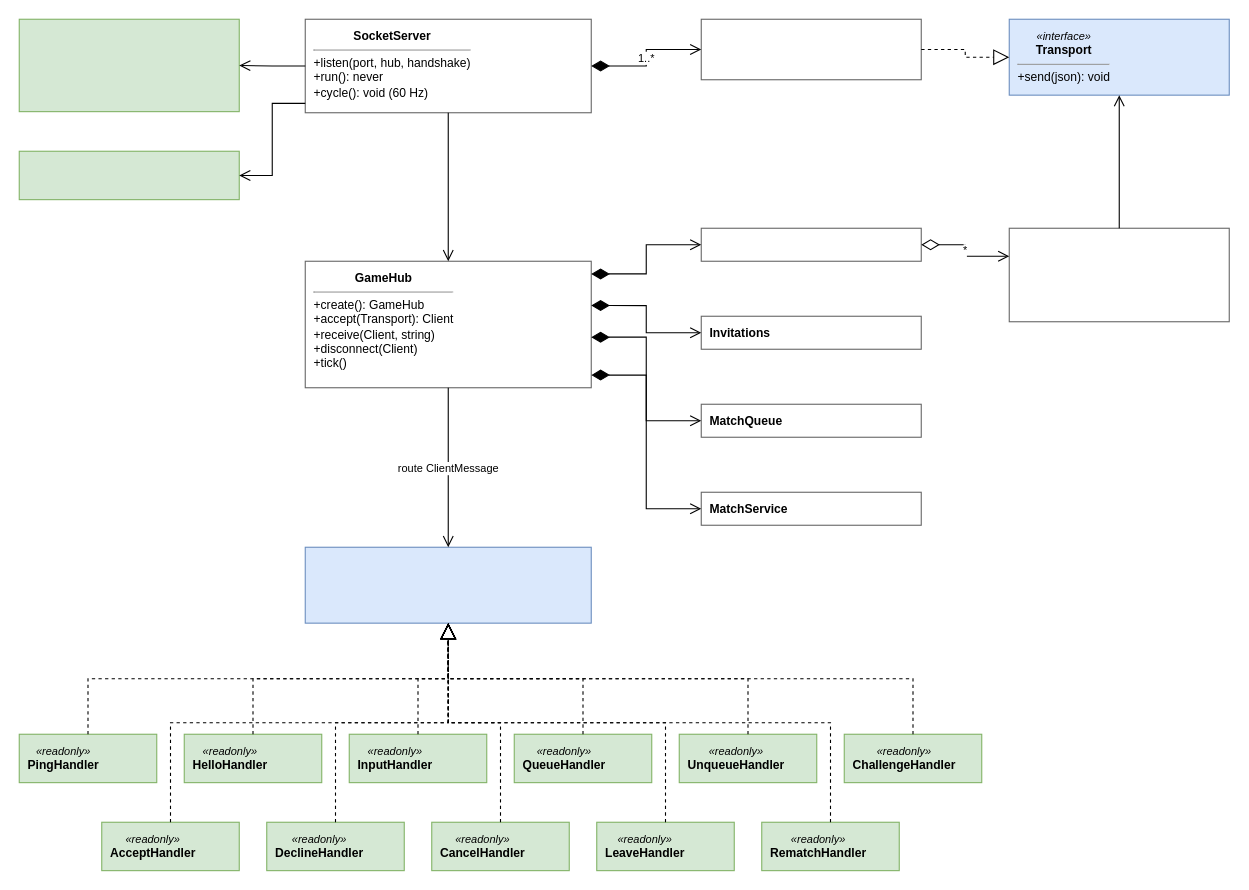
Some shapes in this 1249 by 890 pixel diagram are drawn without their labels. Each missing label, with the box of its shape:
Client +name +status: ClientStatus +room: ?Room: (1008, 227, 1229, 322)
Connection +send(json): void: (700, 18, 921, 80)
Lobby: (700, 227, 921, 261)
«interface» MessageHandler +handle(Client, msg): void: (304, 546, 591, 623)
«readonly» FrameCodec +encode(): string +decode(): Frame: (18, 18, 239, 112)
«readonly» Handshake: (18, 150, 239, 200)
